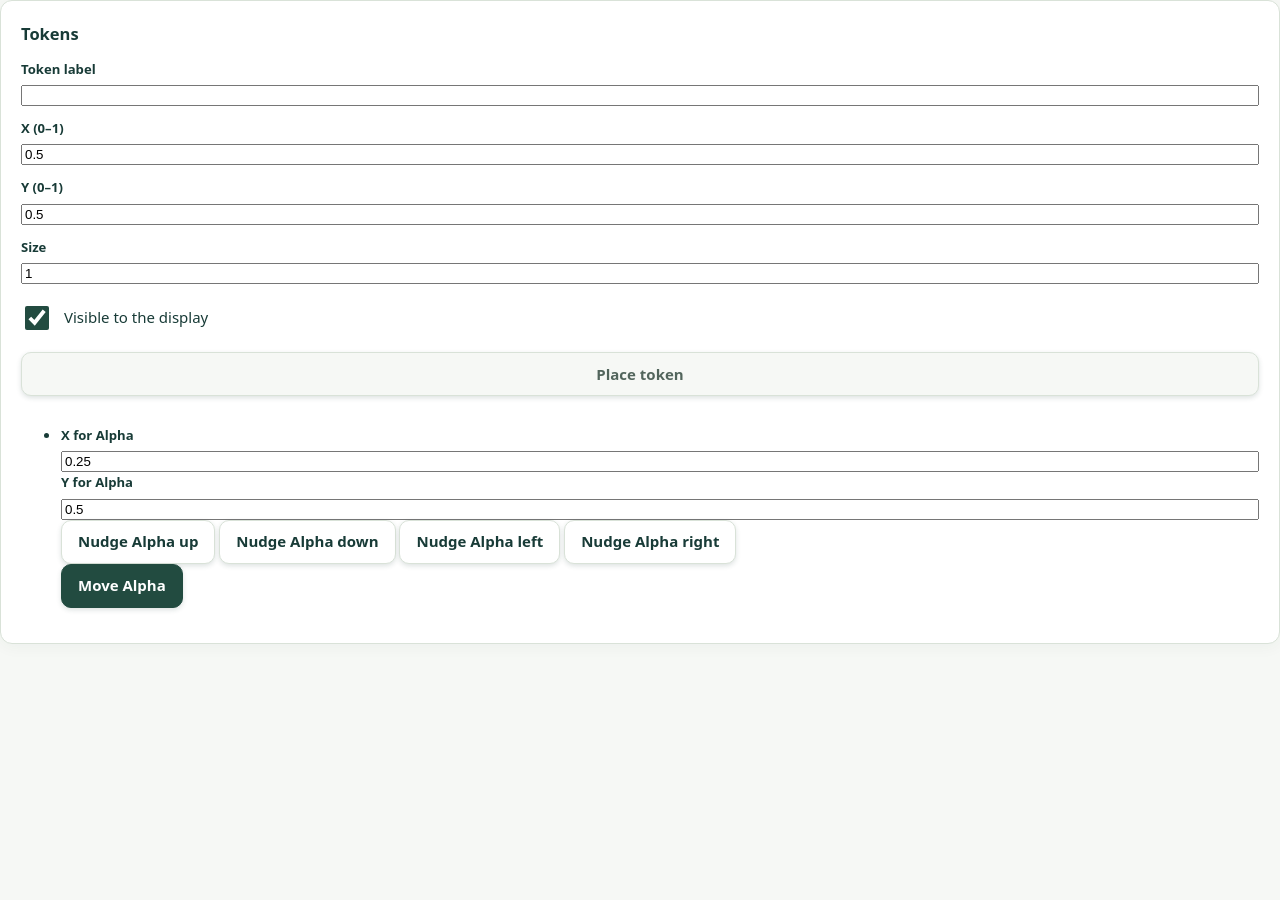
Test case: TokenTrayView › places a token with a fresh key
Type "Wren" into the field labelled "Token label" at (640, 95), box left=21, top=85, right=1259, bottom=106
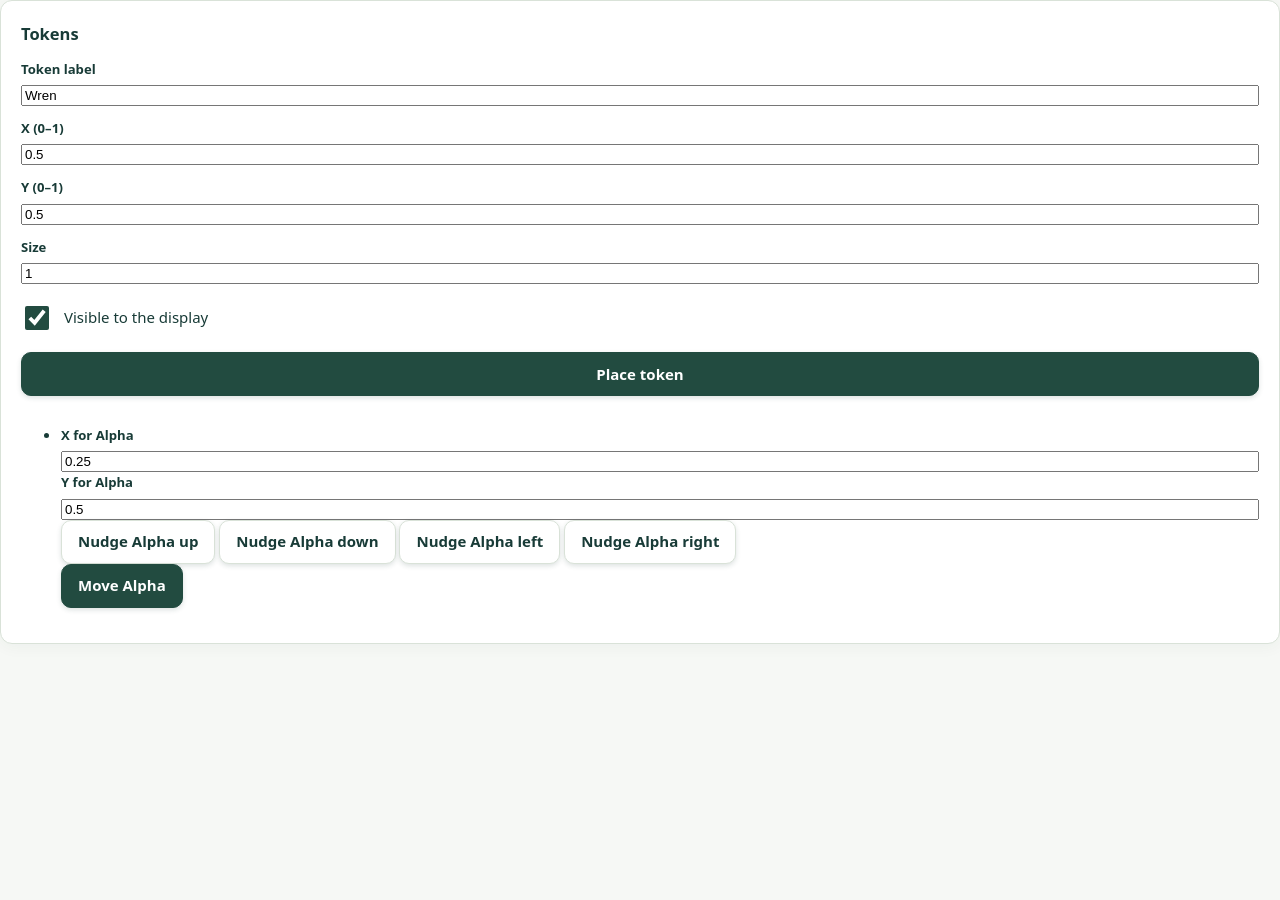
Replace the text in the number field labelled "X (0–1)" with "0.4" at (640, 155), box left=21, top=144, right=1259, bottom=165
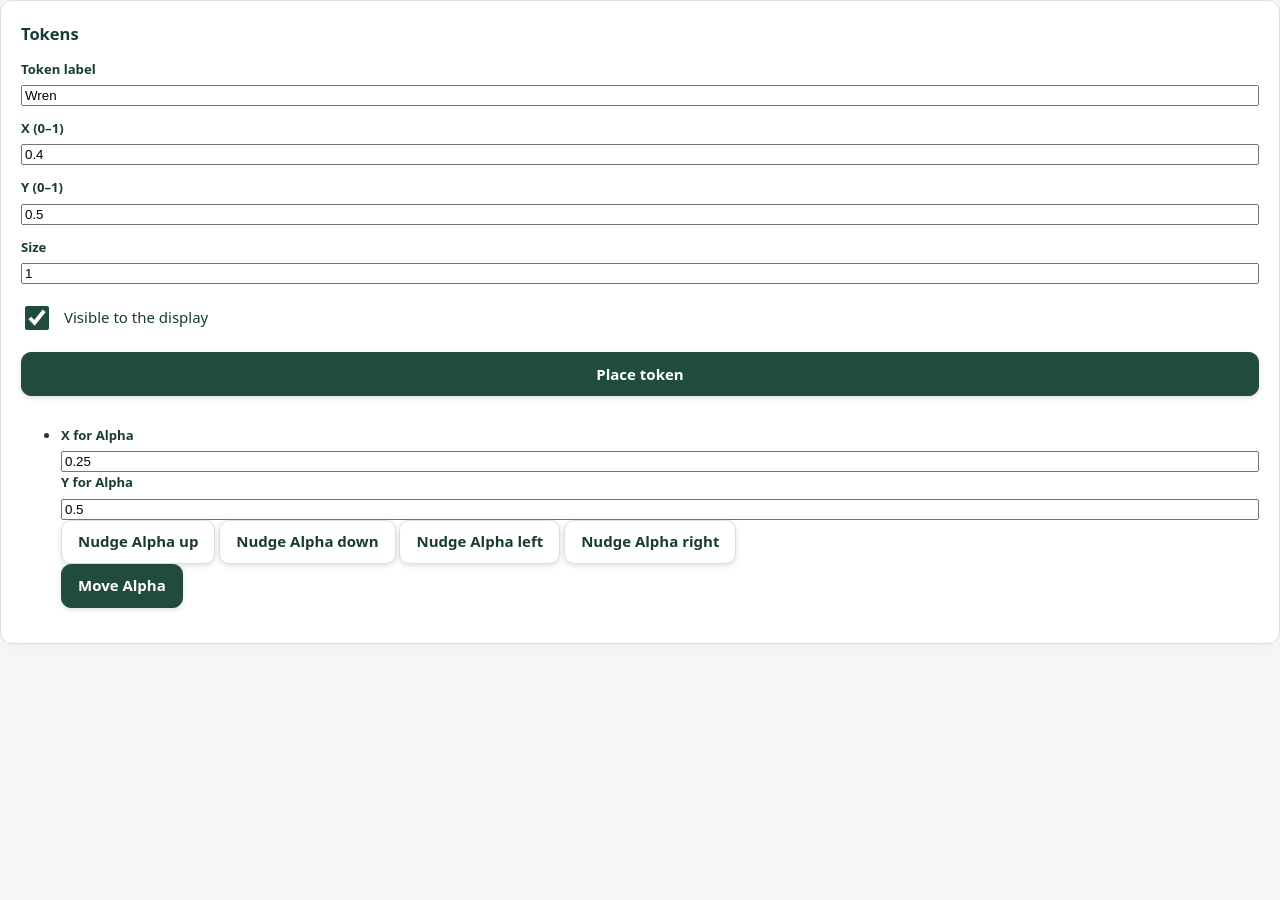
Replace the text in the number field labelled "Y (0–1)" with "0.6" at (640, 214), box left=21, top=204, right=1259, bottom=225
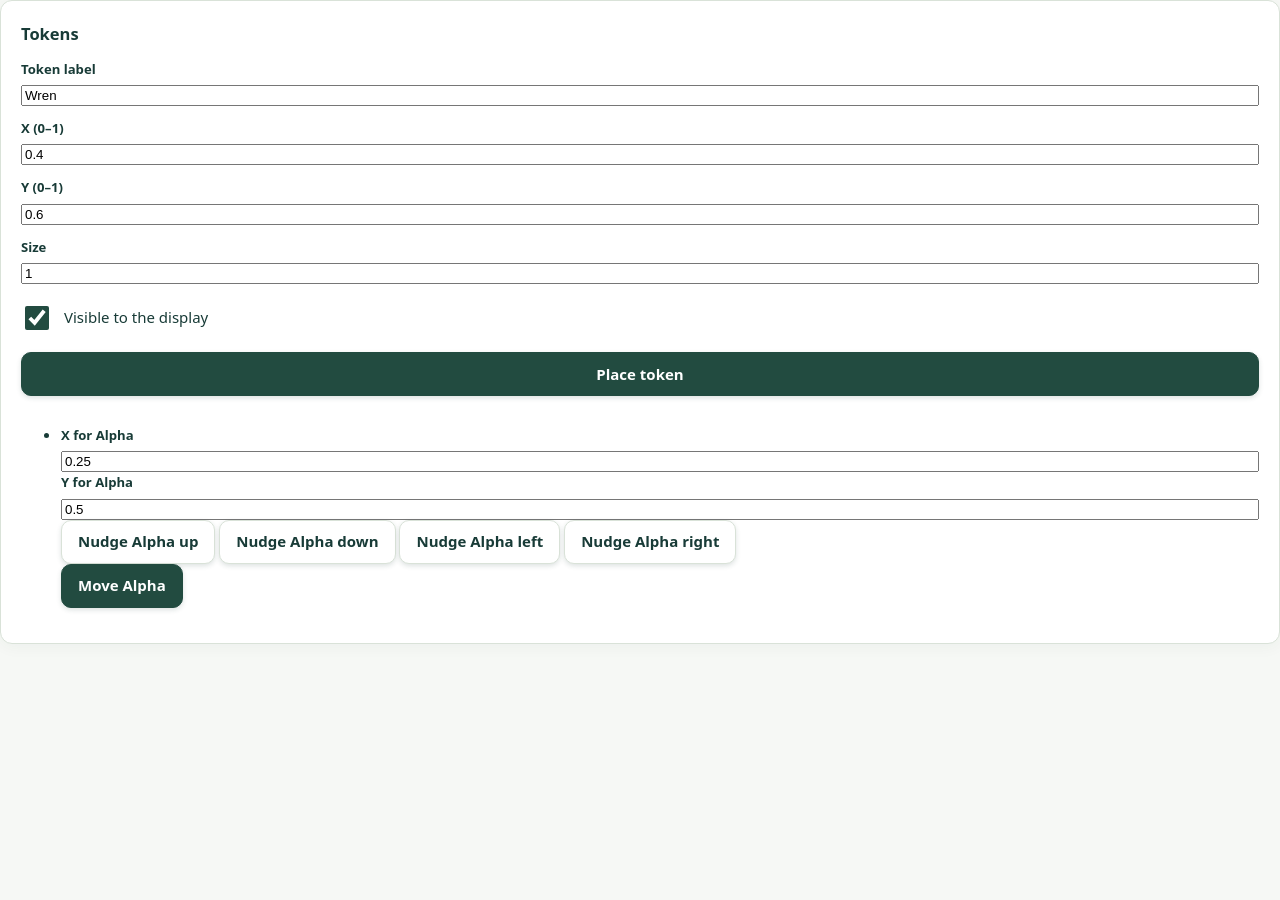
Click the button "Place token" at (640, 374), box left=21, top=352, right=1259, bottom=396
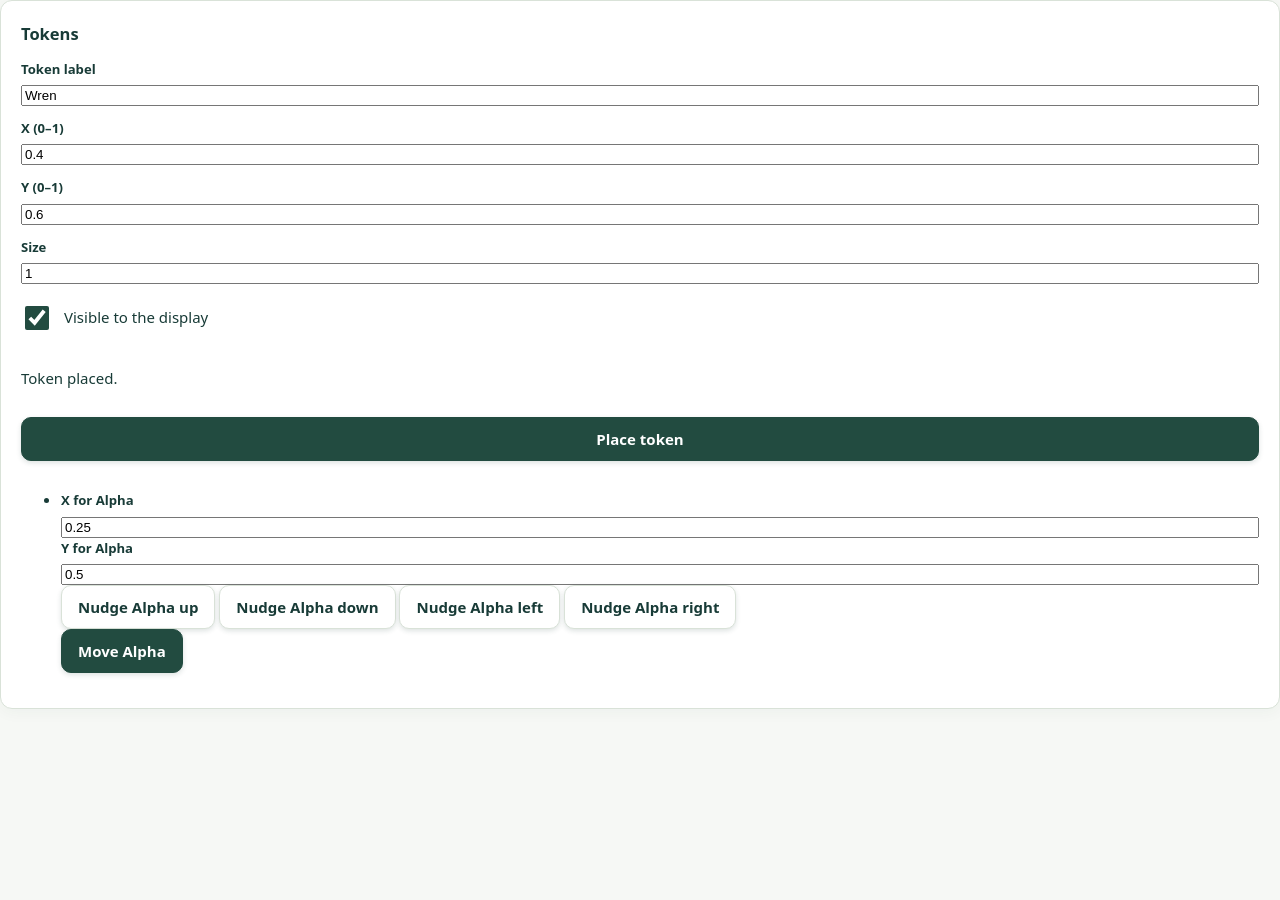
Check: the text "Token placed." is shown, box left=21, top=368, right=117, bottom=388
